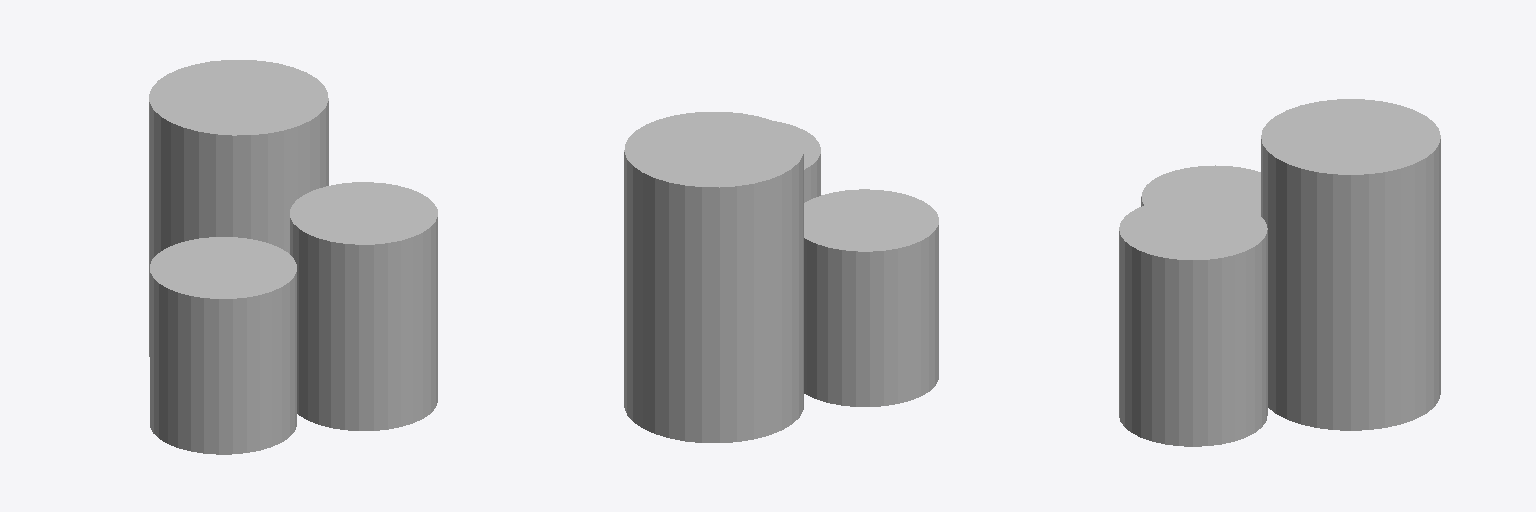
File: barrel_3.obj
3 views of the same model, side by side, from view 1: azimuth 30°, elevation 25°; view 2: azimuth 150°, elevation 25°; view 3: azimuth 270°, elevation 25° (orthographic).
Visible parts, largest first — view 1: Barrel.003; view 2: Barrel.003; view 3: Barrel.003.
Part boxes in pixels (bbox=[...]): Barrel.003: bbox=[149, 60, 437, 454]; Barrel.003: bbox=[624, 112, 938, 442]; Barrel.003: bbox=[1119, 99, 1440, 446].
Bounding box in the file's own units: 0.9162 × 0.869 × 0.991.